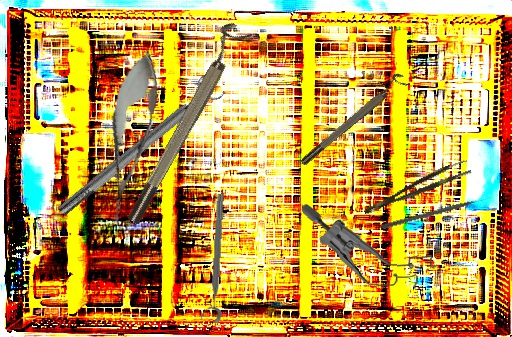Fixation Ring: (115, 19, 253, 227), (50, 71, 228, 223), (295, 70, 410, 168), (199, 193, 228, 323)
Micro Scissor: (92, 45, 169, 230)
Pusher: (380, 195, 492, 231)
Speculum: (297, 202, 441, 292)
Tissue Forceps: (360, 158, 472, 216)
